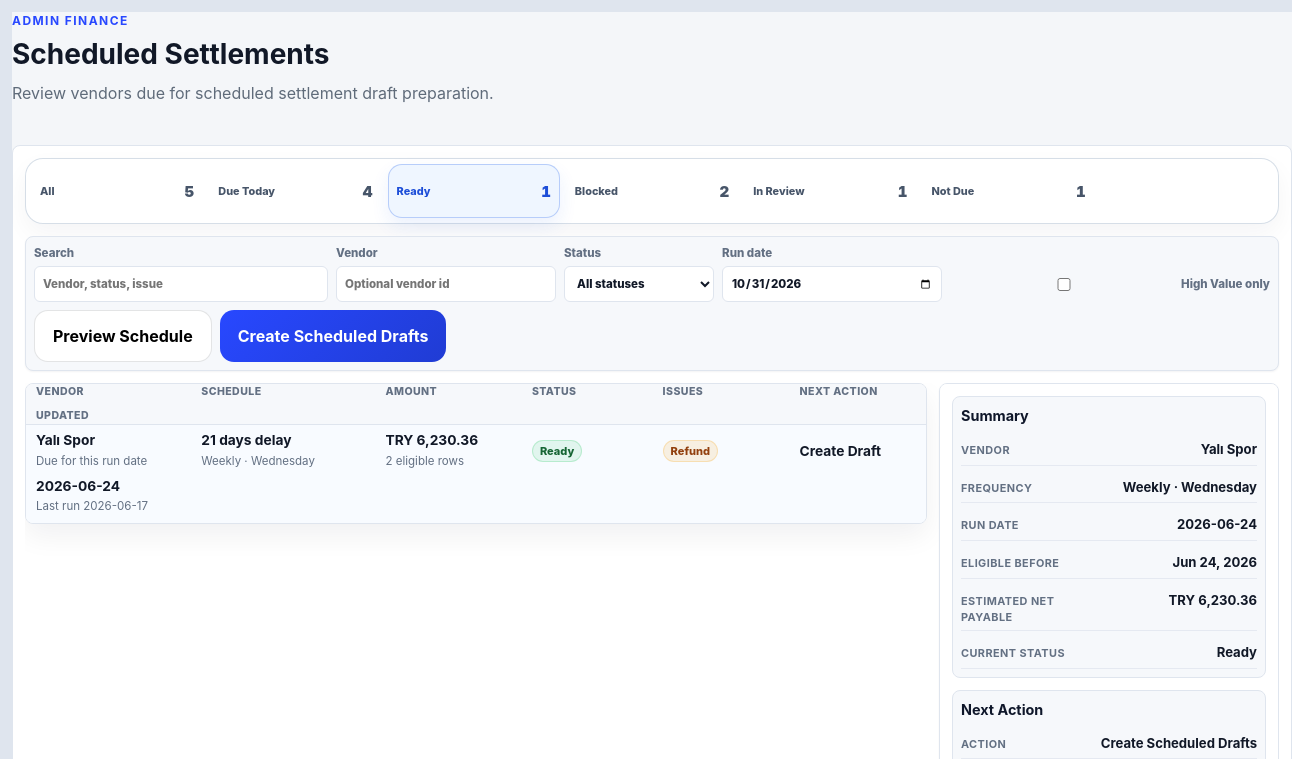
Test: AdminScheduledSettlementsPage › previews the schedule with the dry-run service and shows success feedback
Click the button "Preview Schedule" at (123,336), box [34,310,212,362]
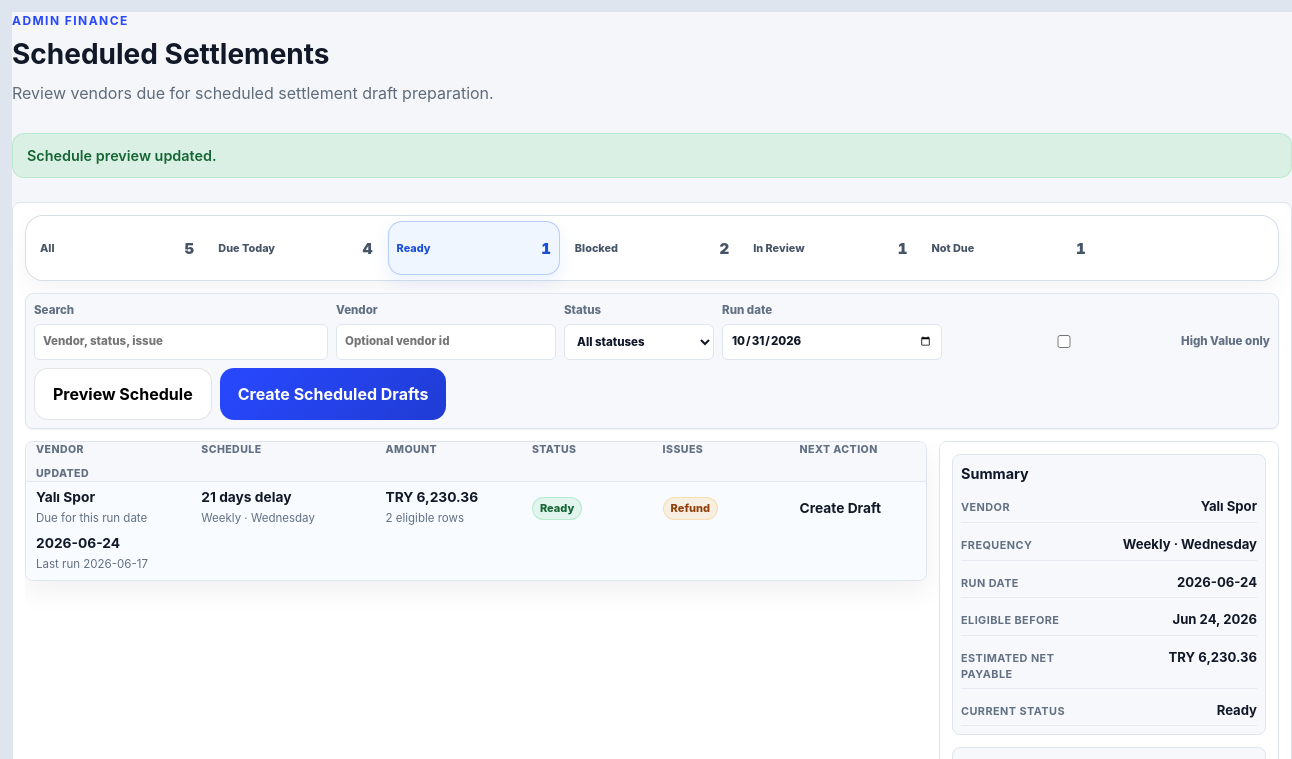
Expected: the text "Schedule preview updated." is shown, [12,133,1291,178]
